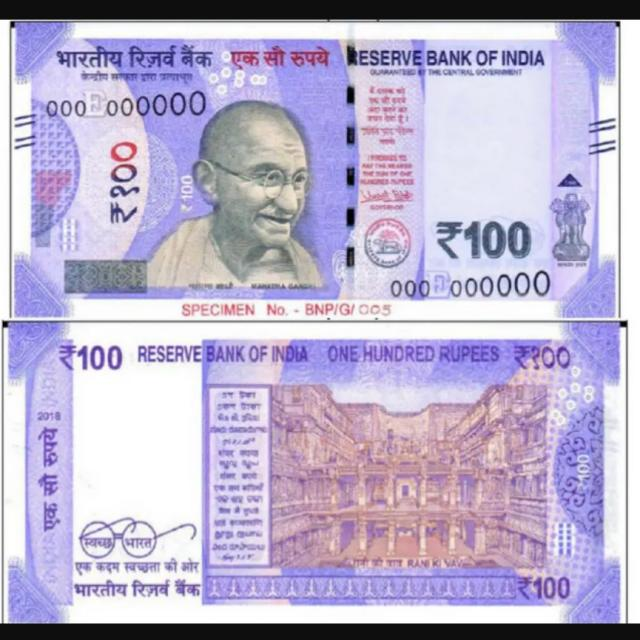100IndianRupees: (6, 321, 626, 621), (205, 328, 628, 623), (226, 26, 623, 316), (8, 26, 372, 320), (8, 328, 321, 626)
